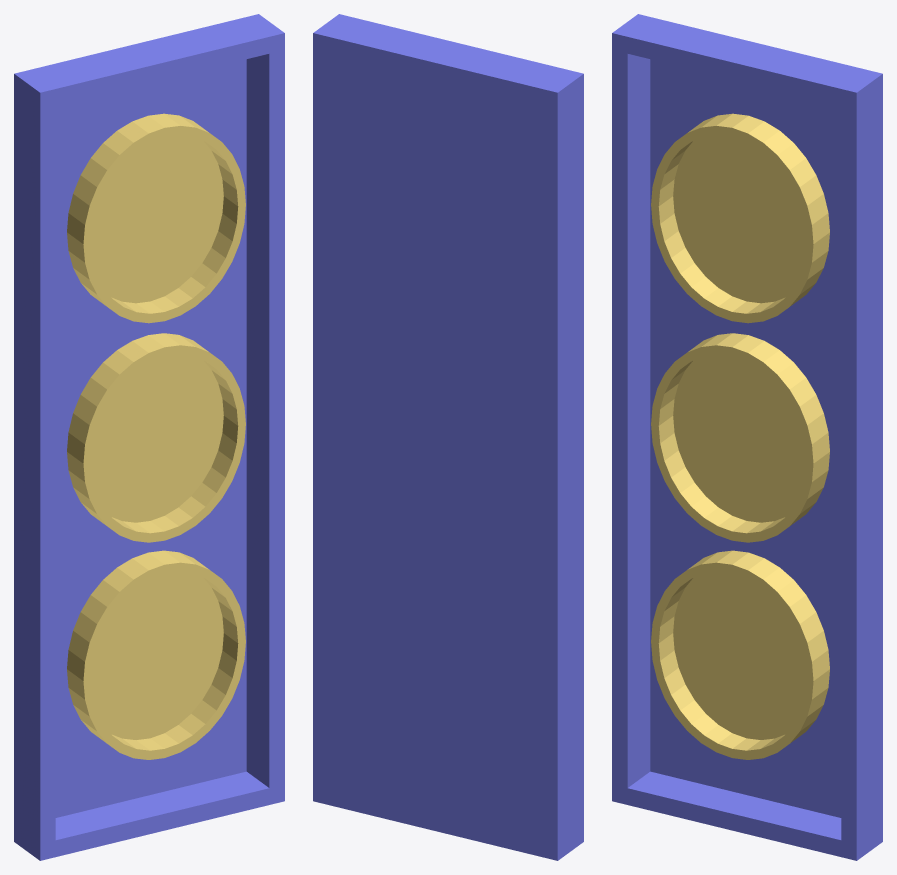
File: button_circle_group.fbx
The picture shows the model from 3 angles, left to right: view 1: azimuth 30°, elevation 25°; view 2: azimuth 150°, elevation 25°; view 3: azimuth 330°, elevation 25°; orthographic projection.
Visible parts, largest first — view 1: button_cicrle_group_mesh; view 2: button_cicrle_group_mesh; view 3: button_cicrle_group_mesh.
Boxes of the visible parts, bbox=[...] form: button_cicrle_group_mesh: bbox=[14, 14, 284, 860]; button_cicrle_group_mesh: bbox=[313, 14, 583, 860]; button_cicrle_group_mesh: bbox=[612, 14, 882, 860].
Bounding box in the file's own units: 5 × 15 × 1.
